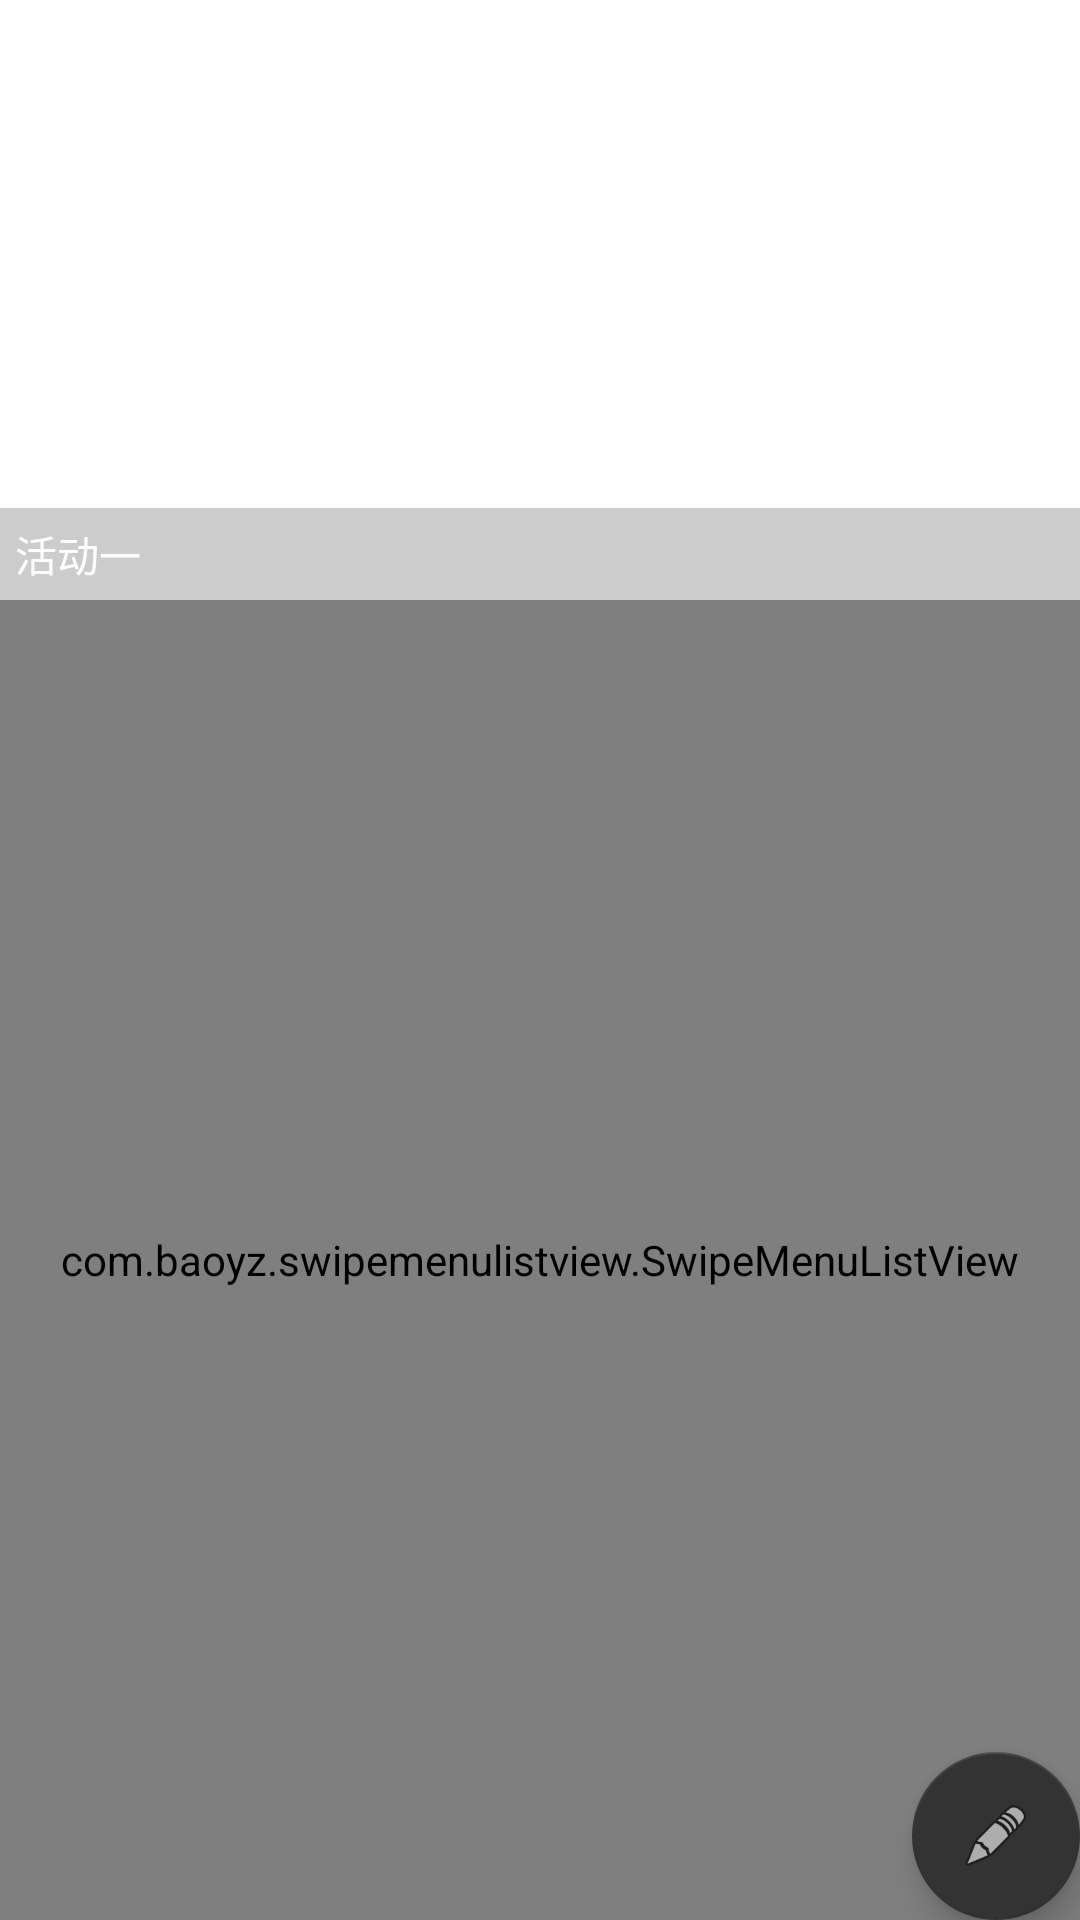

Where icons sit on this 1080w x 1920h app screen, as (x1, y1, x2, y2):
edit: (912, 1752, 1080, 1920)
